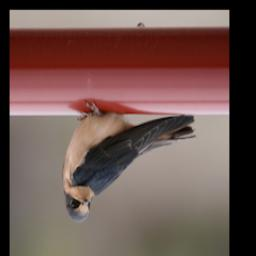Swallow: (61, 94, 197, 227)
